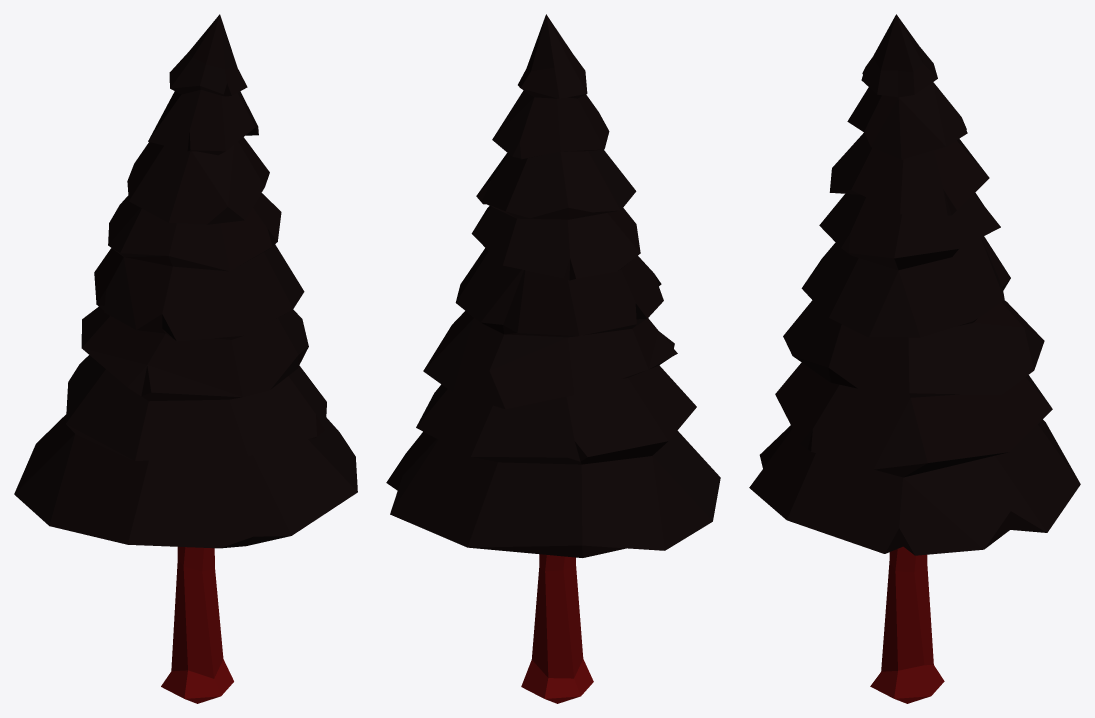
File: Tree New.fbx
3 views of the same model, side by side, from view 1: azimuth 30°, elevation 25°; view 2: azimuth 150°, elevation 25°; view 3: azimuth 270°, elevation 25° (orthographic). The views are drawn at different scales.
Parts seen in each view (by area): view 1: SM_Env_Tree_Pine_01; view 2: SM_Env_Tree_Pine_01; view 3: SM_Env_Tree_Pine_01.
Boxes of the visible parts, x1,y1,x2,y2 form: SM_Env_Tree_Pine_01: (14, 14, 357, 703); SM_Env_Tree_Pine_01: (386, 14, 720, 703); SM_Env_Tree_Pine_01: (749, 14, 1080, 703).
Bounding box in the file's own units: 251 × 548 × 236.
